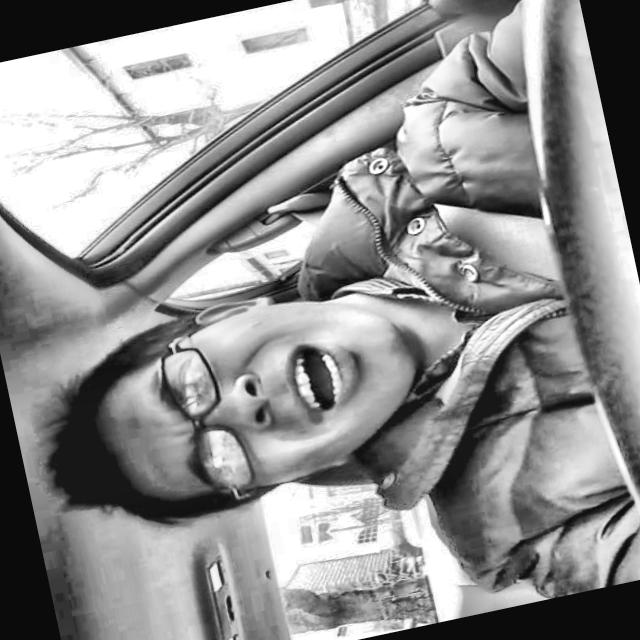open_mouth: (274, 334, 380, 418)
